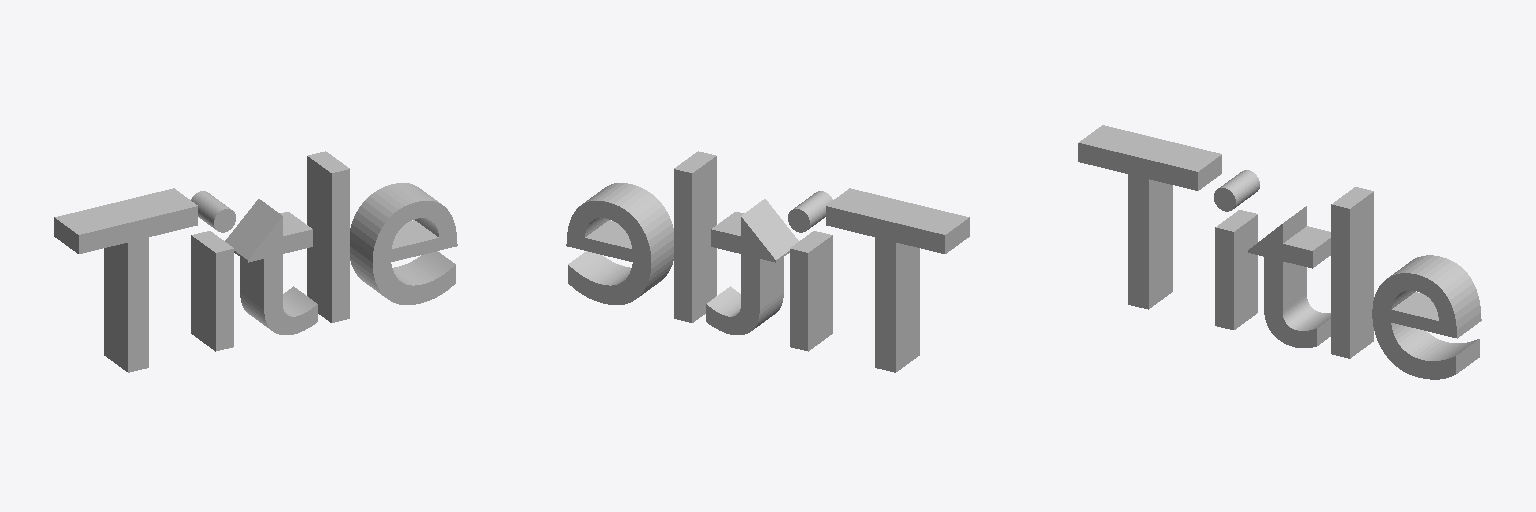
File: Title02.obj
3 views of the same model, side by side, from view 1: azimuth 30°, elevation 25°; view 2: azimuth 150°, elevation 25°; view 3: azimuth 330°, elevation 25° (orthographic).
Visible parts, largest first — view 1: Title; view 2: Title; view 3: Title.
Boxes of the visible parts, <box> form: Title: <box>54,151,457,372</box>; Title: <box>566,151,969,372</box>; Title: <box>1078,125,1481,379</box>.
Bounding box in the file's own units: 1.8 × 0.691 × 0.2.